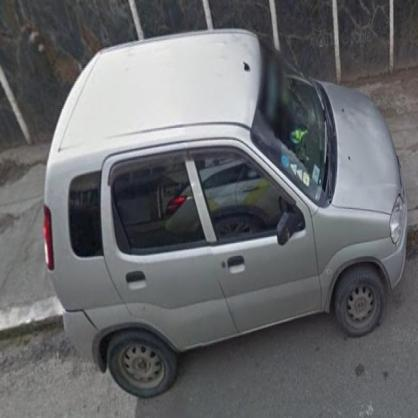car: (42, 26, 409, 400)
